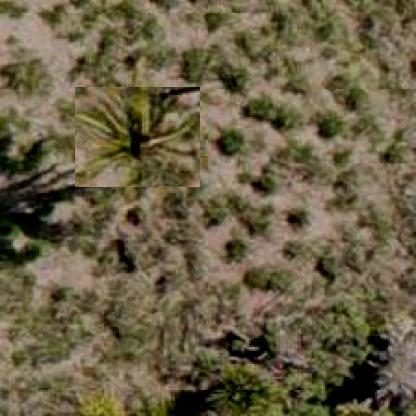coconut tree: (74, 87, 200, 188)
